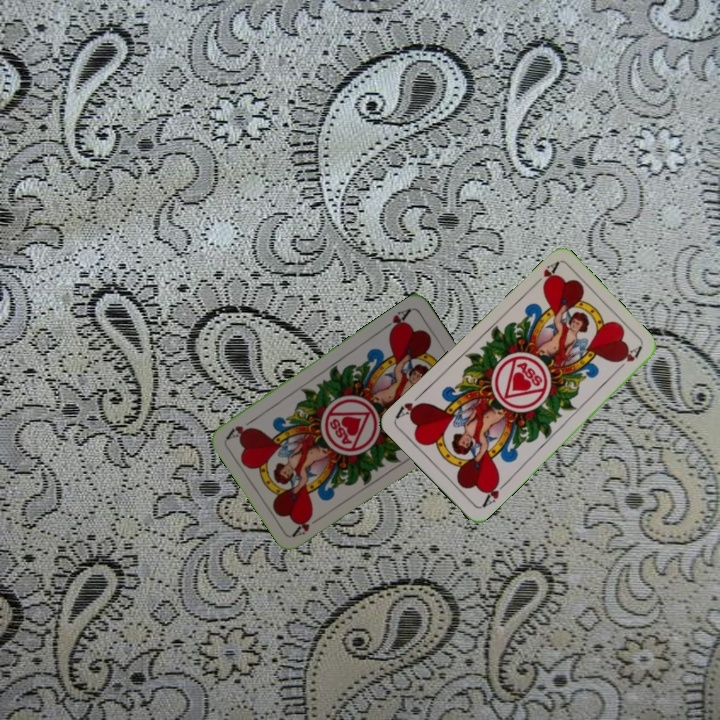HA: (477, 474, 510, 510), (378, 305, 414, 336), (289, 510, 326, 539), (528, 258, 561, 290)
